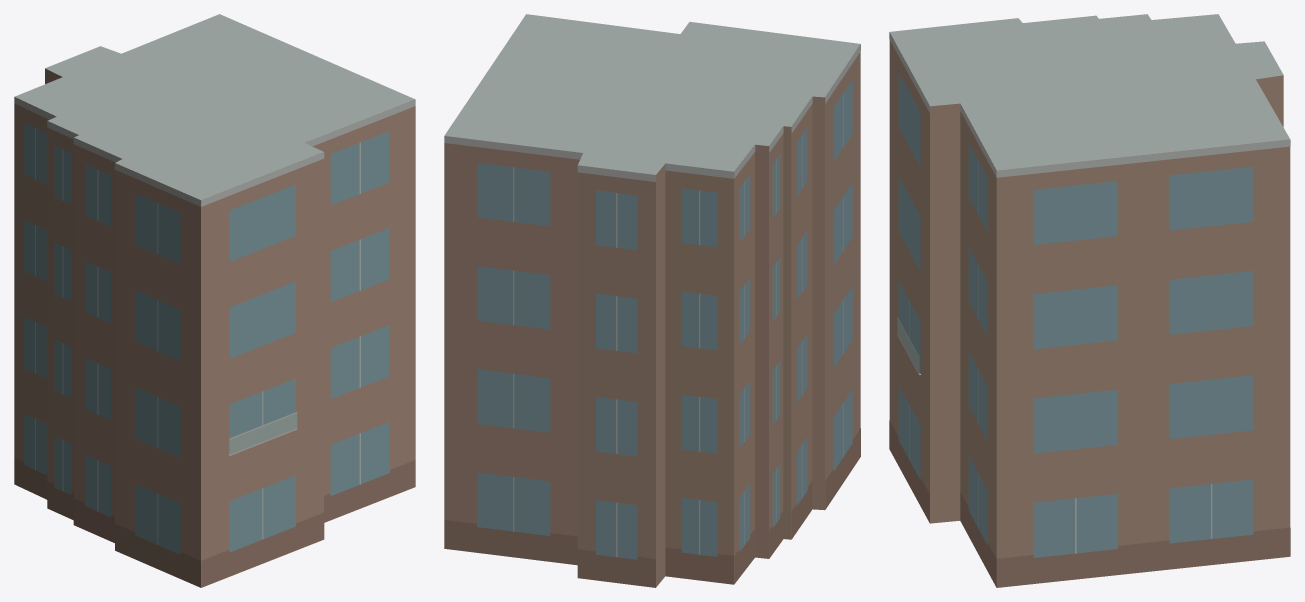
File: survey-upis-32719717.glb
3 renders of one model, left to right at view 1: azimuth 30°, elevation 25°; view 2: azimuth 150°, elevation 25°; view 3: azimuth 270°, elevation 25°, orthographic. The views are drawn at different scales.
Parts seen in each view (by area): view 1: survey-upis-32719717.tmp; view 2: survey-upis-32719717.tmp; view 3: survey-upis-32719717.tmp.
Boxes of the visible parts, left/top/right/bottom form: survey-upis-32719717.tmp: left=14, top=14, right=415, bottom=587; survey-upis-32719717.tmp: left=444, top=14, right=860, bottom=587; survey-upis-32719717.tmp: left=889, top=14, right=1290, bottom=587.
Size of the model in its own units: 11.46 by 14.23 by 12.4.
